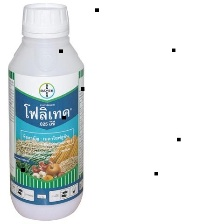insecticide: (7, 0, 86, 221)
